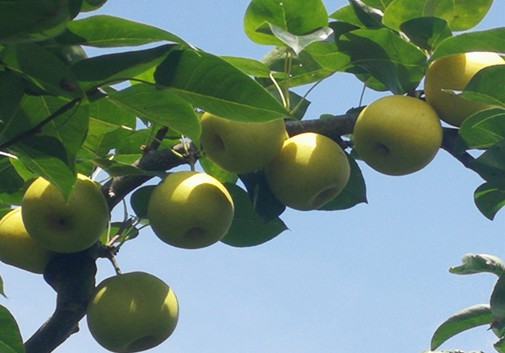pear: (87, 271, 178, 353), (353, 93, 441, 177), (198, 96, 286, 175), (151, 168, 235, 248), (21, 173, 108, 250), (423, 47, 505, 128), (269, 132, 351, 212), (1, 208, 51, 275)
